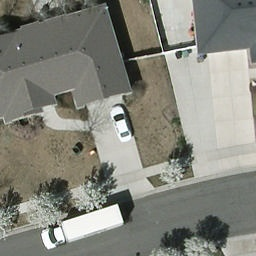car: (107, 104, 135, 139)
truck: (40, 203, 126, 251)
